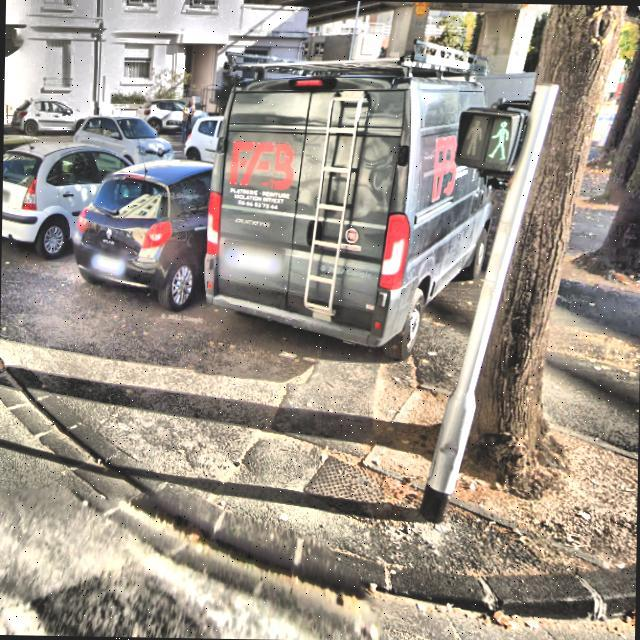green_light: (484, 115, 512, 163)
